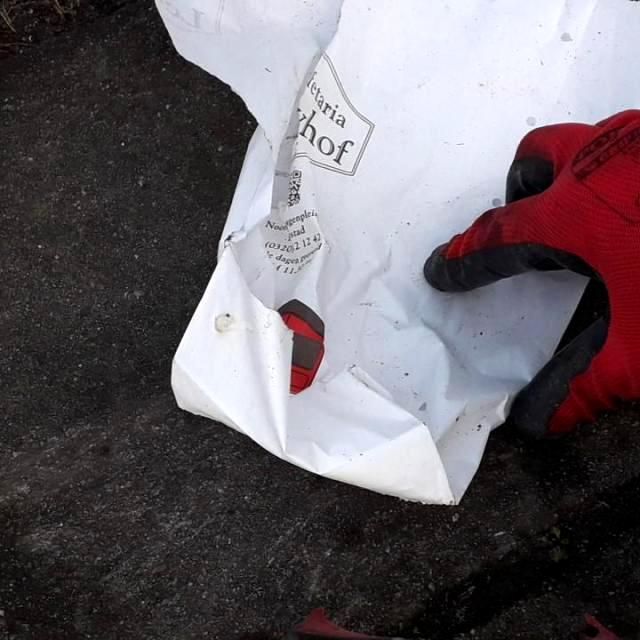Paper: (153, 0, 637, 506)
